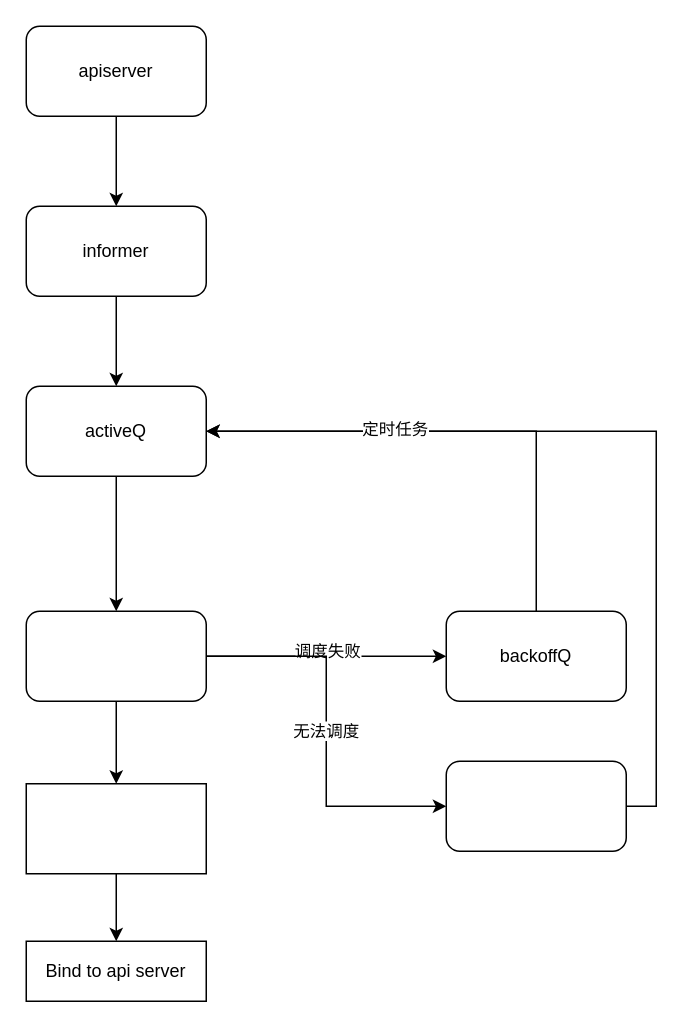
The diagram is 695 pixels wide and 1028 high, and some of its shapes have lost their labels. The centre of each missing label's shape, as x and y in pixels:
"scheduleOne filter plugins score plugins" belongs at point (115, 828).
"scheduler" belongs at point (115, 655).
"unscheduleQ" belongs at point (535, 805).
